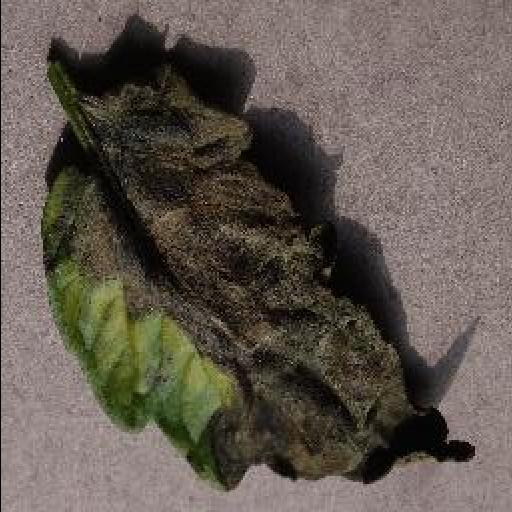disease_tomato: (38, 70, 478, 492)
